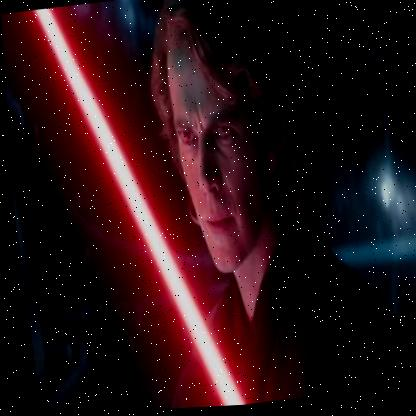sith_lightsaber: (28, 0, 250, 415)
